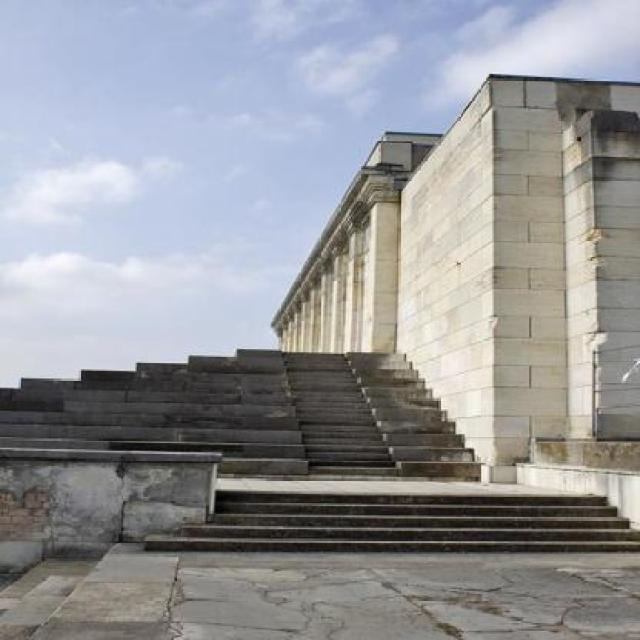stair: (123, 476, 634, 562), (251, 338, 437, 460)
